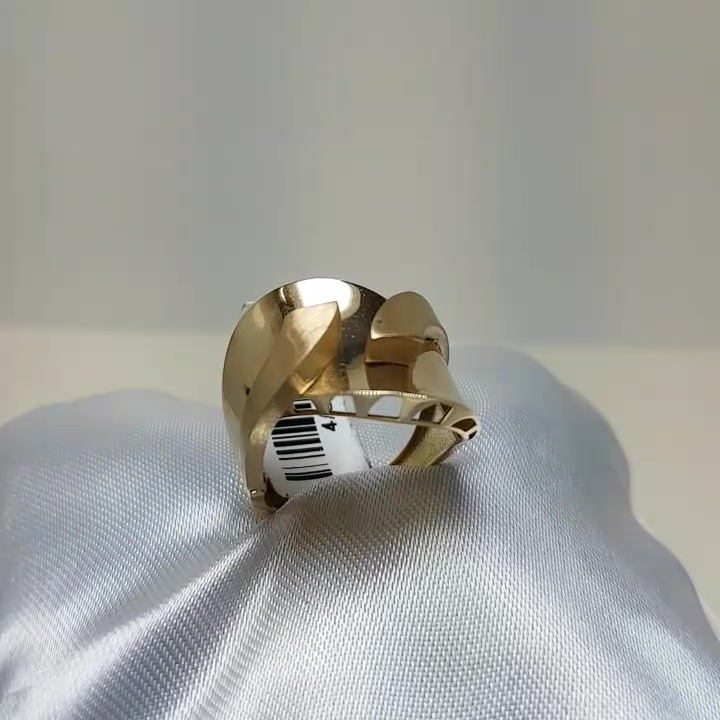Ring 4: (176, 267, 477, 535)
